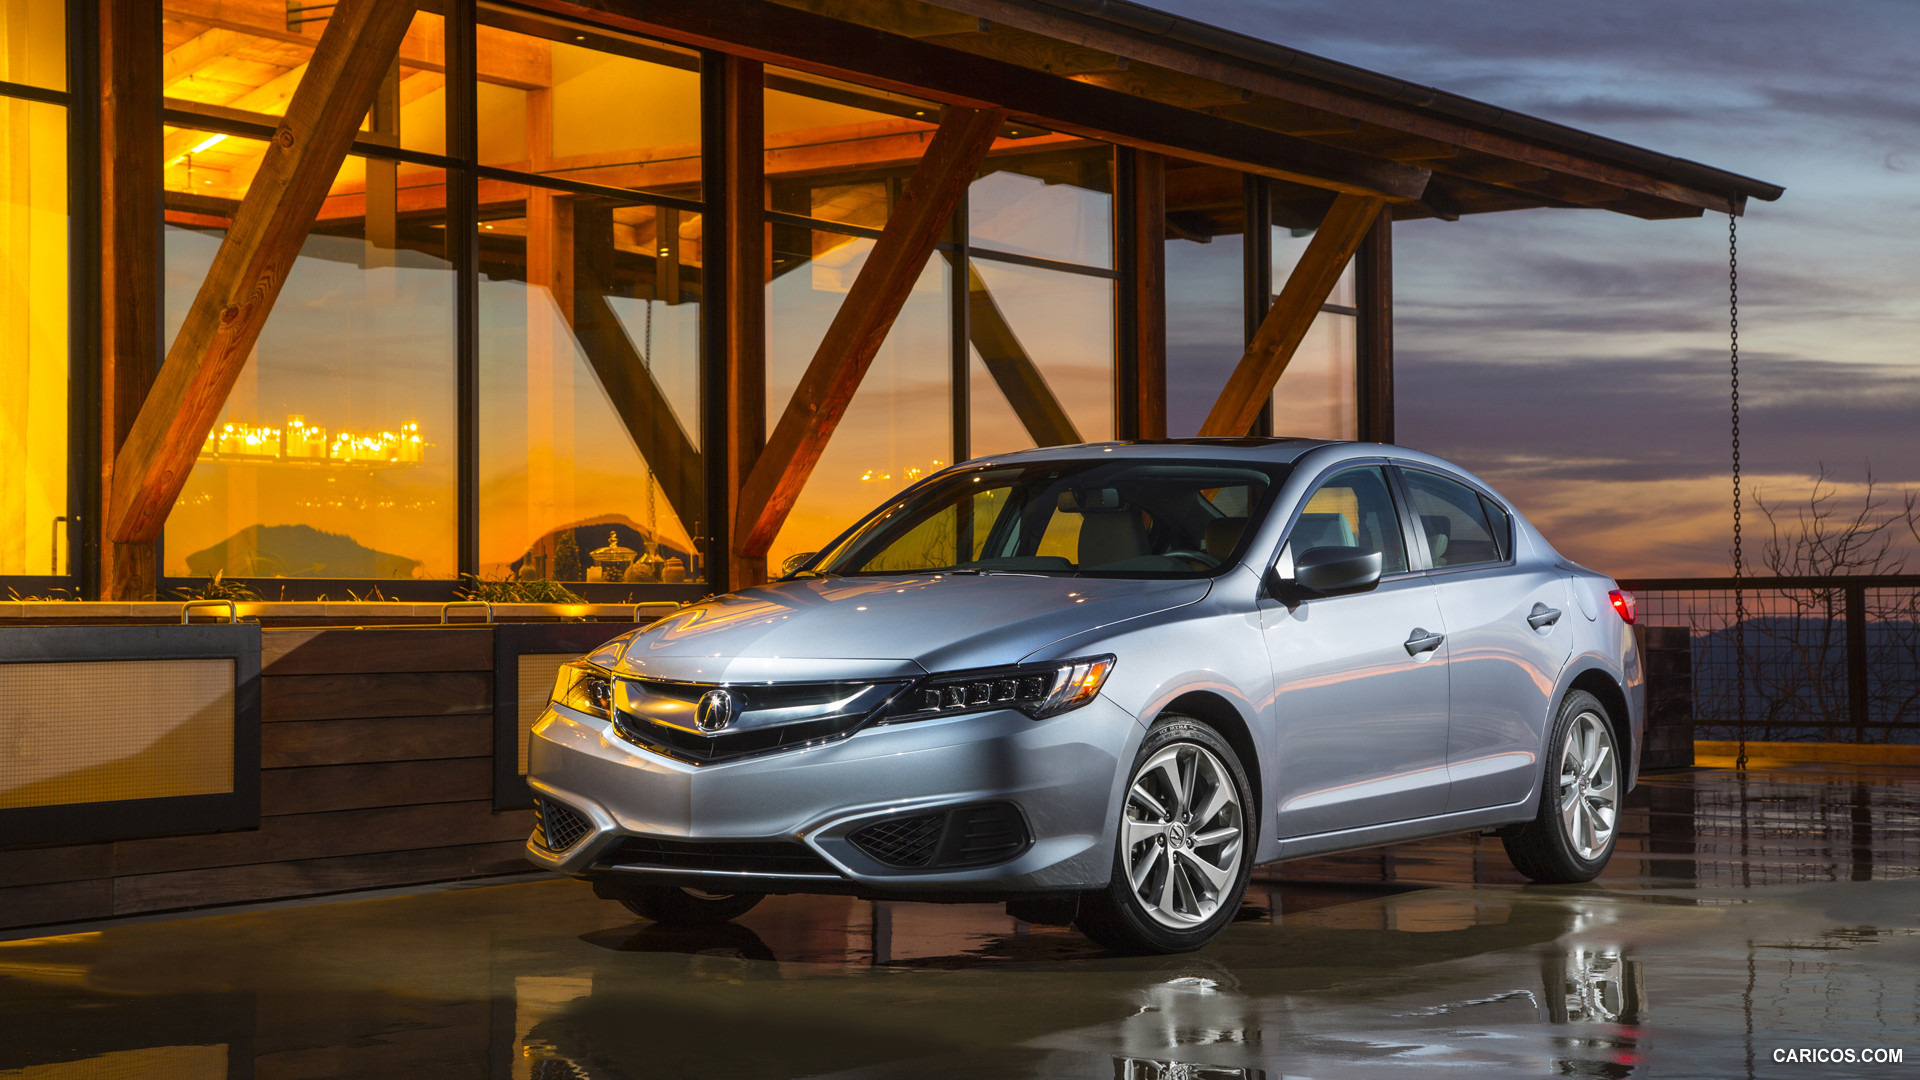Fog Lamp & Scope: (847, 802, 1036, 869)
Front: (520, 582, 1211, 872)
Front Bumper: (521, 770, 1120, 872)
Grill: (607, 676, 880, 767)
Headlight: (870, 657, 1118, 735)
